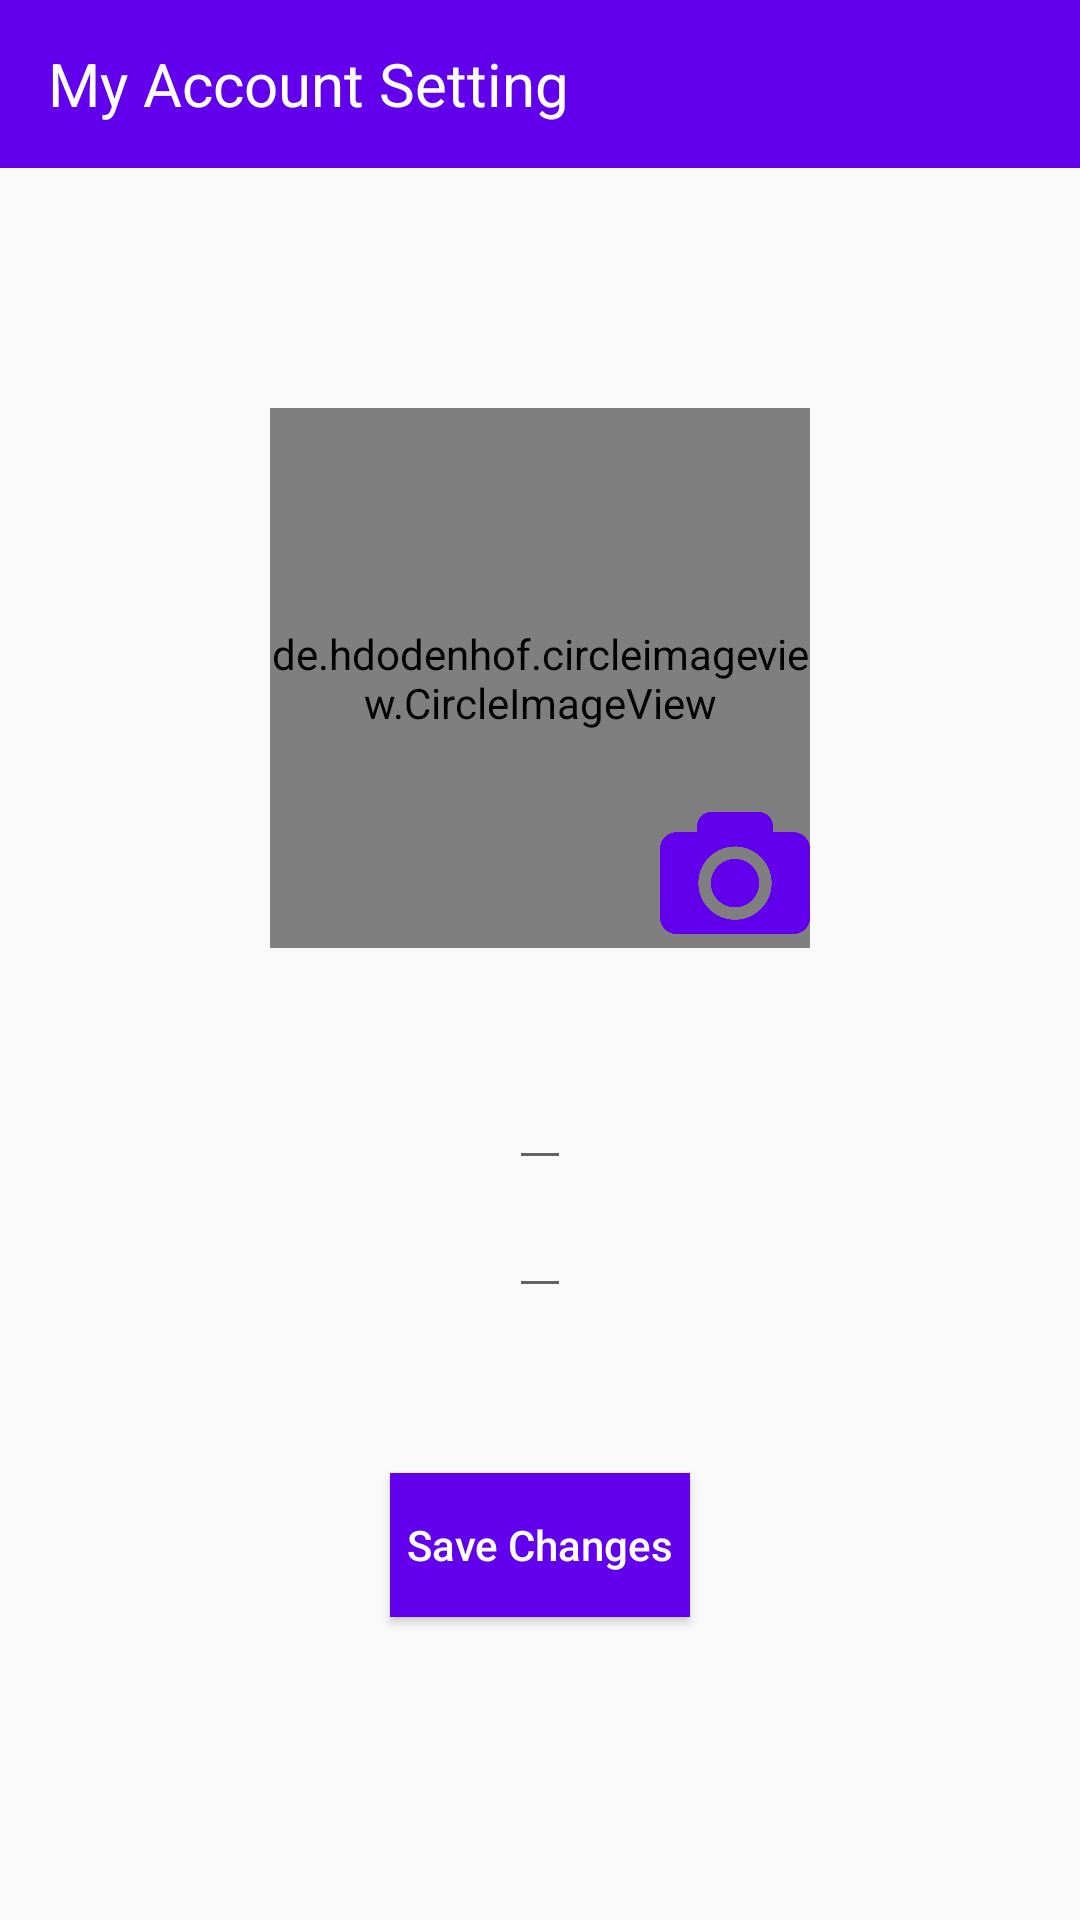

Icons on this 1080*1920 Android screen, each with the point to tap as [x,y]:
camera: [735,873]
